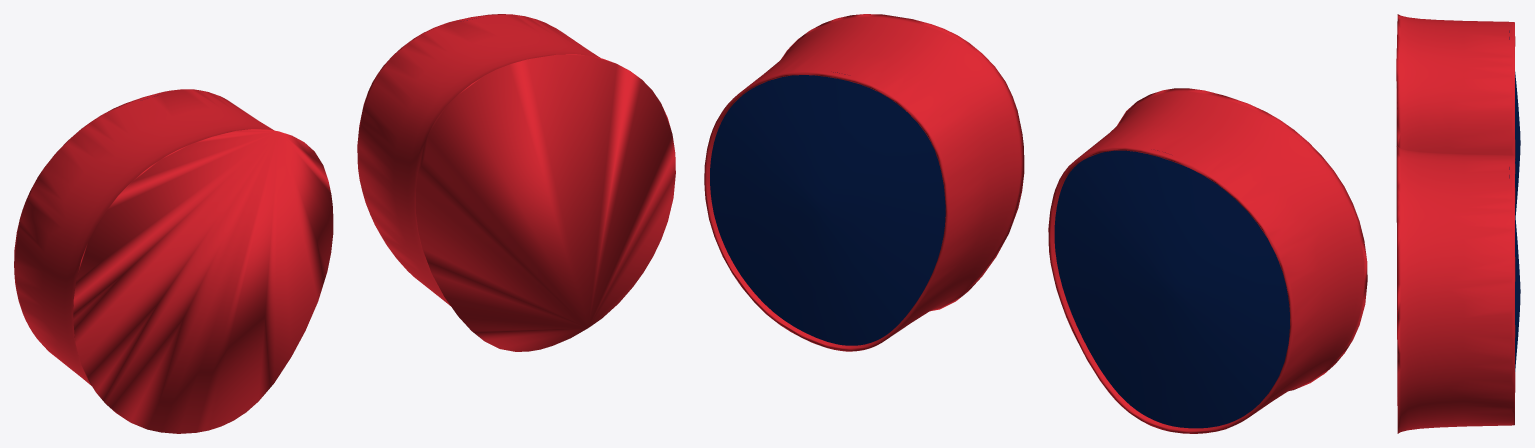
The model's file is lenslow.fbx.
3 renders of one model, left to right at view 1: azimuth 30°, elevation 25°; view 2: azimuth 150°, elevation 25°; view 3: azimuth 270°, elevation 25°, orthographic. The views are drawn at different scales.
Parts seen in each view (by area): view 1: lenses; view 2: lenses; view 3: lenses.
Boxes of the visible parts, <box> form: lenses: <box>14,14,675,433</box>; lenses: <box>704,14,1367,433</box>; lenses: <box>1396,14,1520,433</box>.
Size of the model in its own units: 93.57 by 43.54 by 19.16.
